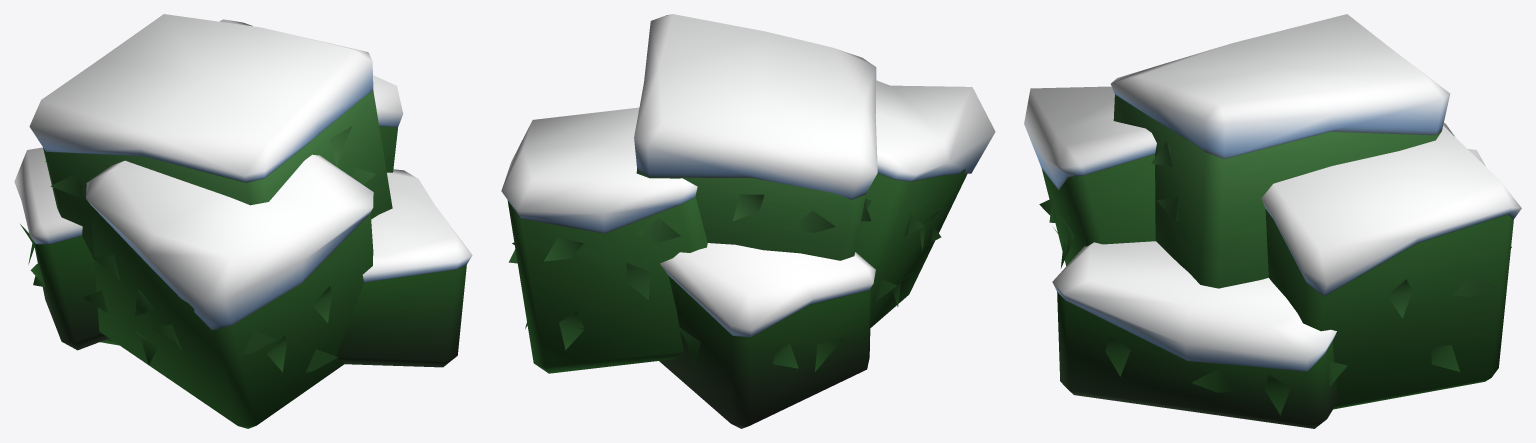
The model's file is deco_winter_bushSnow.FBX.
3 renders of one model, left to right at view 1: azimuth 30°, elevation 25°; view 2: azimuth 150°, elevation 25°; view 3: azimuth 270°, elevation 25°, orthographic. The views are drawn at different scales.
Parts seen in each view (by area): view 1: deco_winter_bushSnow; view 2: deco_winter_bushSnow; view 3: deco_winter_bushSnow.
Part boxes in pixels (left/top/right/bottom): deco_winter_bushSnow: left=14, top=14, right=472, bottom=428; deco_winter_bushSnow: left=501, top=14, right=995, bottom=428; deco_winter_bushSnow: left=1024, top=14, right=1521, bottom=428.
Size of the model in its own units: 2.49 by 1.87 by 2.76.
1 material, 1 textured.
